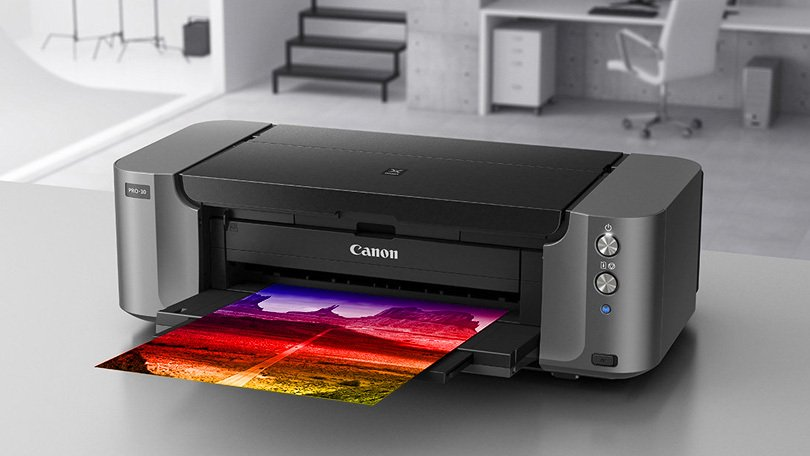printer: (82, 116, 707, 414)
